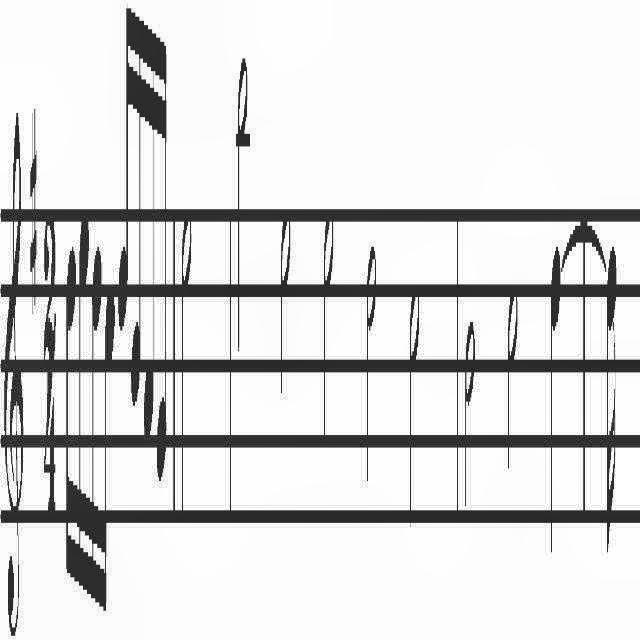Bass-clef: (3, 100, 25, 640)
Diez: (29, 99, 38, 325)
Half-note: (180, 203, 192, 525), (236, 48, 248, 370), (365, 232, 377, 498), (322, 196, 334, 460), (506, 266, 520, 486), (408, 286, 420, 530), (464, 315, 476, 531), (279, 200, 291, 402)
Quarter-note: (548, 225, 560, 573)
Sixteenth-note: (142, 0, 156, 448), (156, 0, 168, 492), (78, 196, 90, 608), (130, 3, 142, 415), (102, 283, 116, 621), (90, 231, 102, 621), (64, 232, 76, 598), (118, 1, 130, 336), (606, 235, 618, 563)
